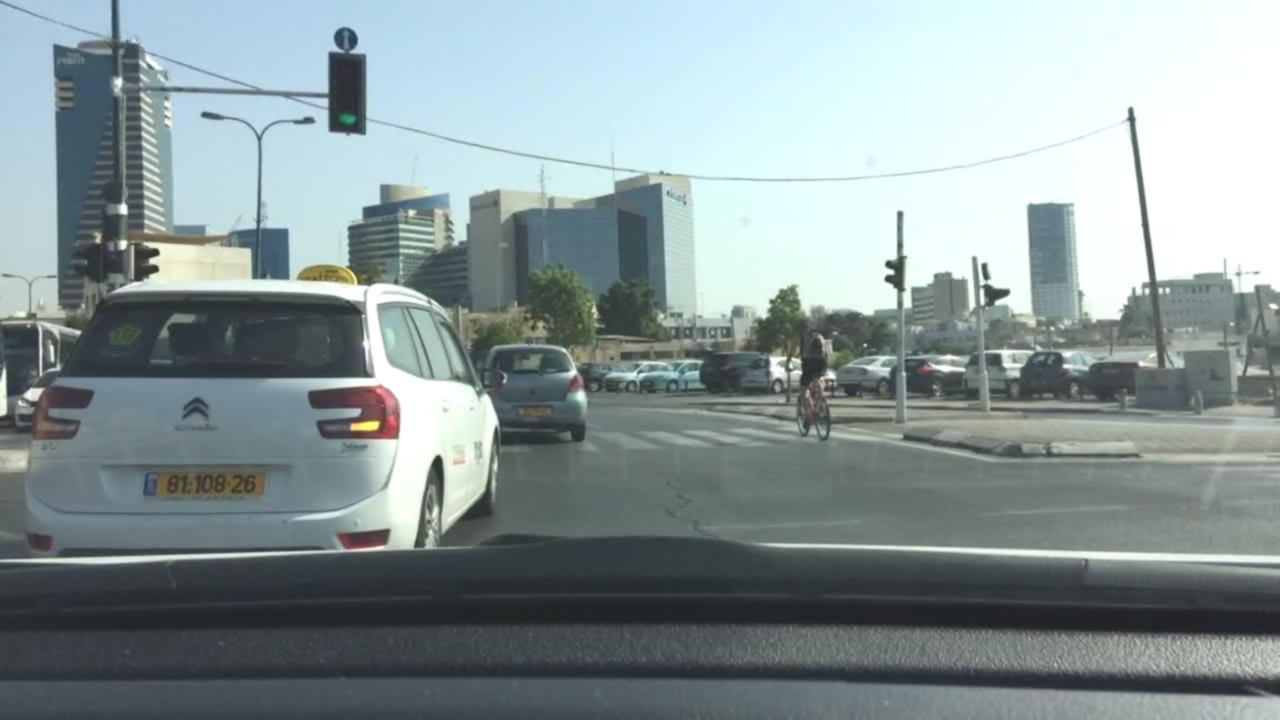Citroen: (174, 388, 226, 436)
